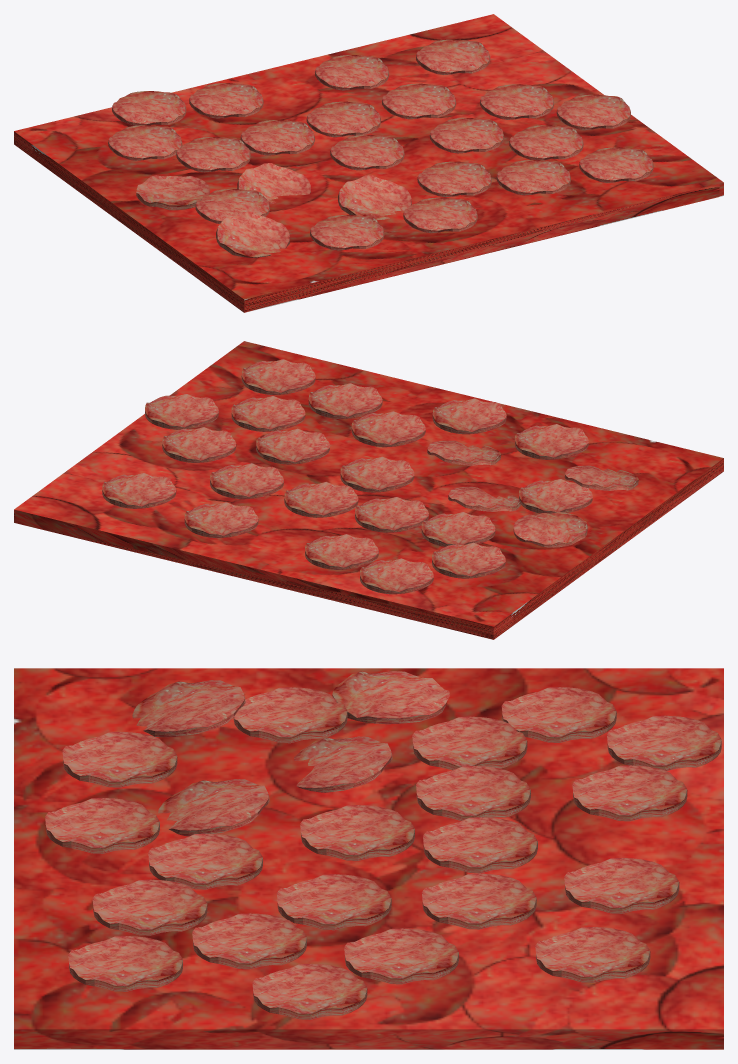
Rendered from salami_hoopje_alt.glb.
3 renders of one model, top to bottom at view 1: azimuth 30°, elevation 25°; view 2: azimuth 150°, elevation 25°; view 3: azimuth 270°, elevation 25°, orthographic. The views are drawn at different scales.
Parts seen in each view (by area): view 1: Cube, Cylinder.083, Cylinder.081, Cylinder.013, Cylinder.015, Cylinder.006, Cylinder.014, Cylinder.009, Cylinder.003, Cylinder.007, Cylinder.008, Cylinder.010 (+13 smaller); view 2: Cube, Cylinder.190, Cylinder.002, Cylinder.001, Cylinder.012, Cylinder.015, Cylinder.004, Cylinder.010, Cylinder.005, Cylinder.008, Cylinder.009, Cylinder.019 (+13 smaller); view 3: Cube, Cylinder.008, Cylinder.003, Cylinder.011, Cylinder.012, Cylinder.005, Cylinder.006, Cylinder.002, Cylinder.007, Cylinder.010, Cylinder.014, Cylinder.016 (+13 smaller).
Part boxes in pixels (box(x1,y1,x2,y2)): Cube: box(14, 14, 723, 312); Cylinder.083: box(216, 212, 289, 257); Cylinder.081: box(338, 175, 411, 220); Cylinder.013: box(579, 147, 653, 182); Cylinder.015: box(403, 197, 477, 233); Cylinder.006: box(382, 83, 456, 119); Cylinder.014: box(556, 94, 630, 130); Cylinder.009: box(417, 161, 491, 197); Cylinder.003: box(189, 83, 263, 118); Cylinder.007: box(416, 39, 490, 74); Cylinder.008: box(480, 84, 554, 119); Cylinder.010: box(429, 118, 504, 153); Cube: box(14, 341, 723, 639); Cylinder.190: box(513, 511, 587, 547); Cylinder.002: box(284, 482, 358, 517); Cylinder.001: box(340, 456, 414, 492); Cylinder.012: box(231, 396, 305, 431); Cylinder.015: box(432, 398, 506, 434); Cylinder.004: box(432, 542, 505, 578); Cylinder.010: box(256, 428, 329, 464); Cylinder.005: box(184, 502, 258, 538); Cylinder.008: box(162, 427, 236, 462); Cylinder.009: box(351, 411, 425, 447); Cylinder.019: box(360, 558, 433, 594); Cube: box(14, 668, 723, 1049); Cylinder.008: box(344, 928, 458, 984); Cylinder.003: box(572, 765, 687, 821); Cylinder.011: box(92, 879, 207, 935); Cylinder.012: box(192, 913, 306, 969); Cylinder.005: box(564, 858, 679, 913); Cylinder.006: box(421, 873, 536, 929); Cylinder.002: box(423, 817, 537, 873); Cylinder.007: box(535, 927, 650, 982); Cylinder.010: box(276, 874, 391, 930); Cylinder.014: box(252, 964, 367, 1019); Cylinder.016: box(62, 732, 177, 787).
Bounding box in the file's own units: 1.35 × 0.0761 × 1.12.
Materials: 25 (25 with a texture image).
